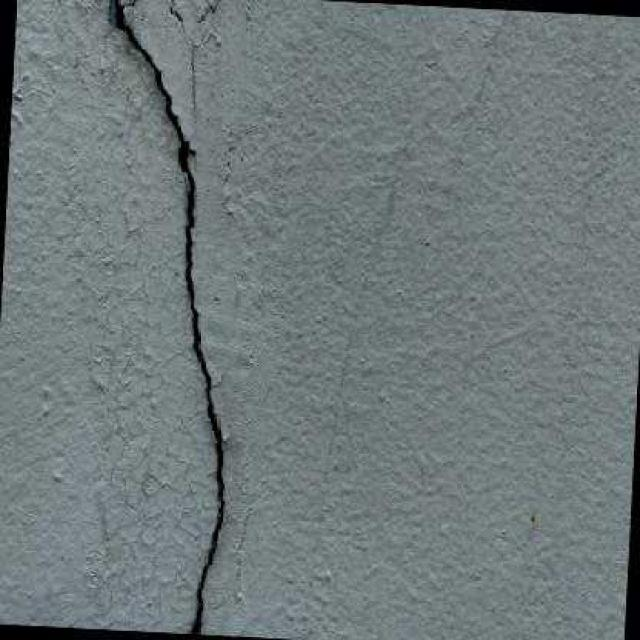D00: (107, 0, 226, 634)
